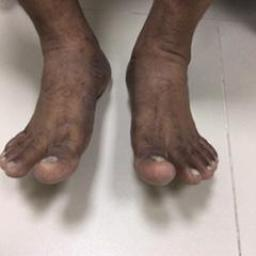Front View -Both Feet-: (2, 11, 228, 210)
